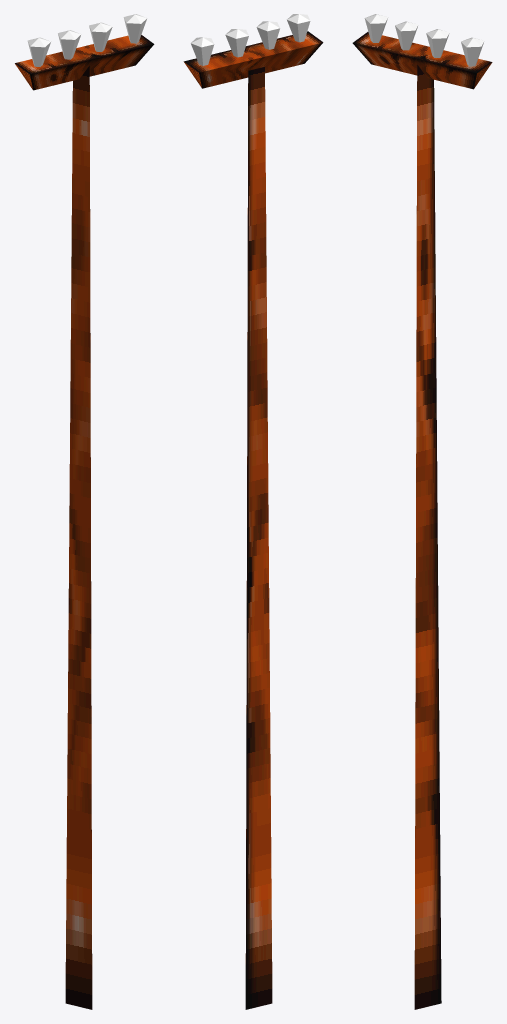
Rendered from Strommast_833.glb.
3 views of the same model, side by side, from view 1: azimuth 30°, elevation 25°; view 2: azimuth 210°, elevation 25°; view 3: azimuth 330°, elevation 25° (orthographic).
Parts seen in each view (by area): view 1: pCylinderShape29, pCylinderShape30, pSphereShape7, pSphereShape8, pSphereShape5, pSphereShape6; view 2: pCylinderShape29, pCylinderShape30, pSphereShape7, pSphereShape5, pSphereShape6, pSphereShape8; view 3: pCylinderShape29, pCylinderShape30, pSphereShape7, pSphereShape6, pSphereShape5, pSphereShape8.
Boxes of the visible parts, <box> form: pCylinderShape29: <box>65,66,92,1009</box>; pCylinderShape30: <box>15,35,154,90</box>; pSphereShape7: <box>58,30,81,59</box>; pSphereShape8: <box>89,22,112,51</box>; pSphereShape5: <box>123,14,146,43</box>; pSphereShape6: <box>27,37,50,66</box>; pCylinderShape29: <box>245,67,272,1009</box>; pCylinderShape30: <box>183,31,323,88</box>; pSphereShape7: <box>256,21,280,49</box>; pSphereShape5: <box>190,37,214,65</box>; pSphereShape6: <box>287,14,310,42</box>; pSphereShape8: <box>225,29,248,57</box>; pCylinderShape29: <box>414,65,441,1009</box>; pCylinderShape30: <box>352,32,492,89</box>; pSphereShape7: <box>395,21,418,50</box>; pSphereShape6: <box>364,14,388,42</box>; pSphereShape5: <box>461,37,484,66</box>; pSphereShape8: <box>426,29,449,57</box>.
Size of the model in its own units: 0.1601 by 1.2 by 0.0345.
Materials: 6 (2 with a texture image).
